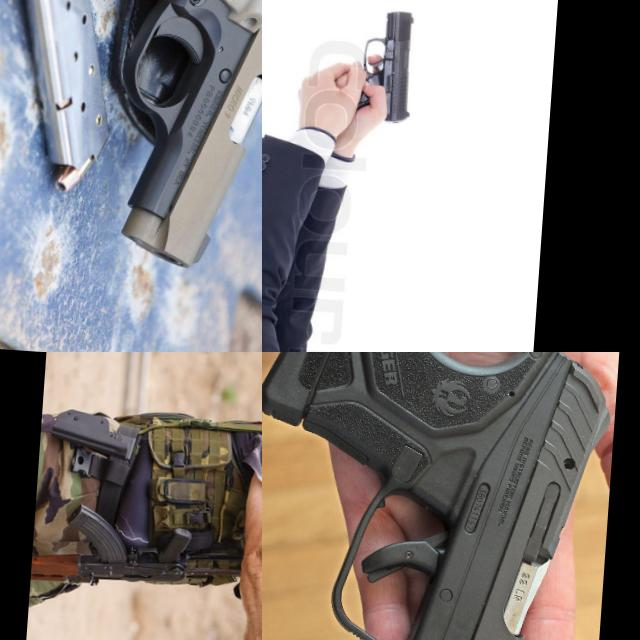handgun: (262, 352, 621, 640), (44, 0, 262, 283), (356, 5, 419, 127)
